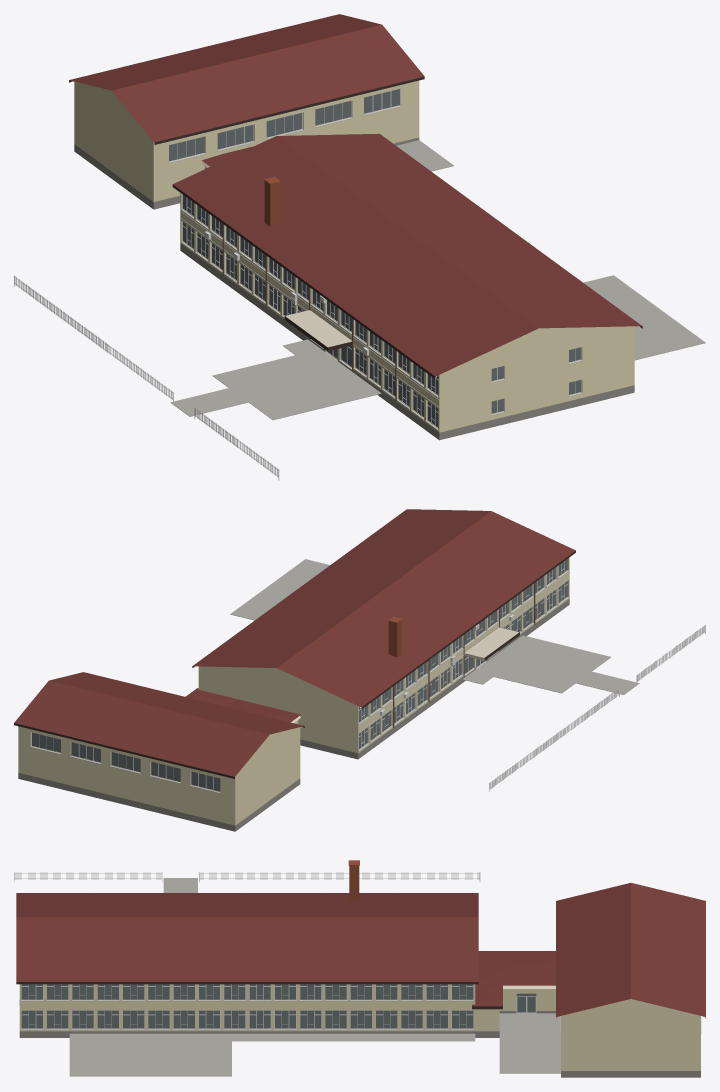
The model's file is school.glb.
3 renders of one model, top to bottom at view 1: azimuth 30°, elevation 25°; view 2: azimuth 150°, elevation 25°; view 3: azimuth 270°, elevation 25°, orthographic. The views are drawn at different scales.
Visible parts, largest first — view 1: School; view 2: School; view 3: School.
Part boxes in pixels (<box>): School: <box>14,14,705,480</box>; School: <box>14,509,705,831</box>; School: <box>14,860,705,1077</box>.
Bounding box in the file's own units: 55 × 13.07 × 80.98.
